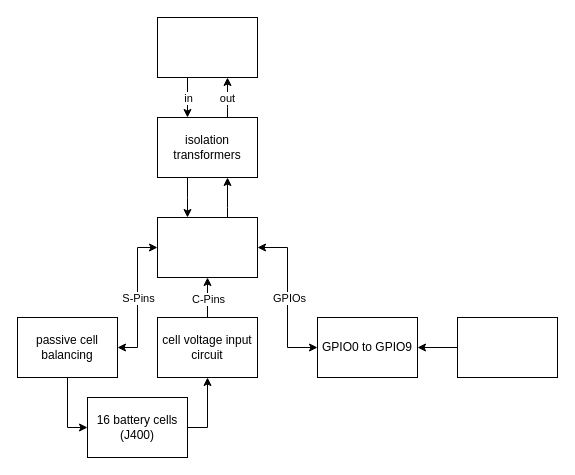
The diagram is 575 pixels wide and 475 high, and some of its shapes have lost their labels. Each missing label, with the centre of its shape:
"10 NTC temperature sensors (J403)" belongs at point (507, 347).
"ADES1830" belongs at point (207, 247).
"Daisy chain (J401, J402)" belongs at point (207, 47).
